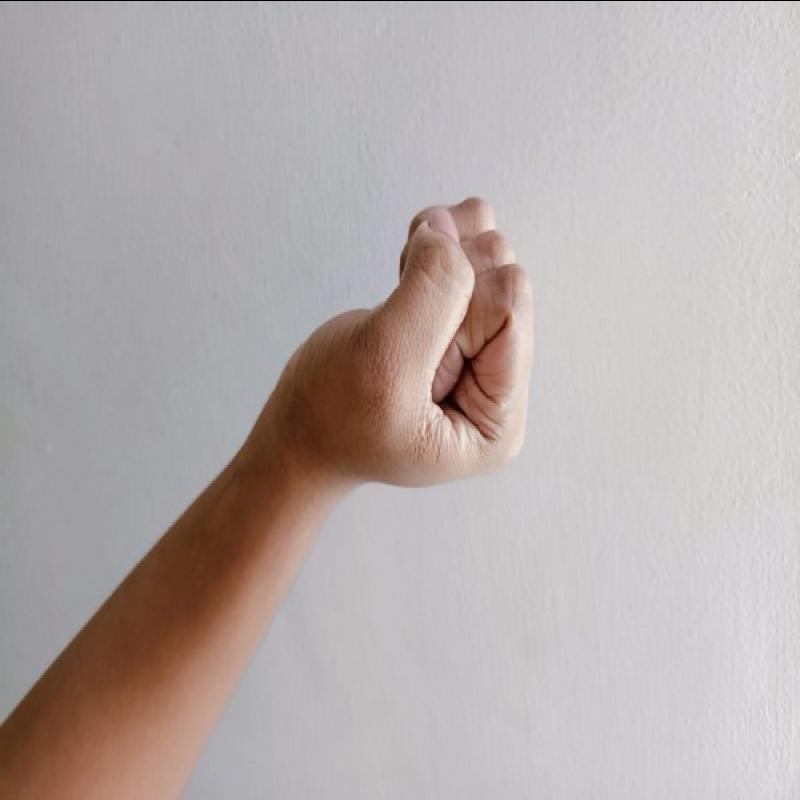Mushti: (261, 189, 579, 512)
